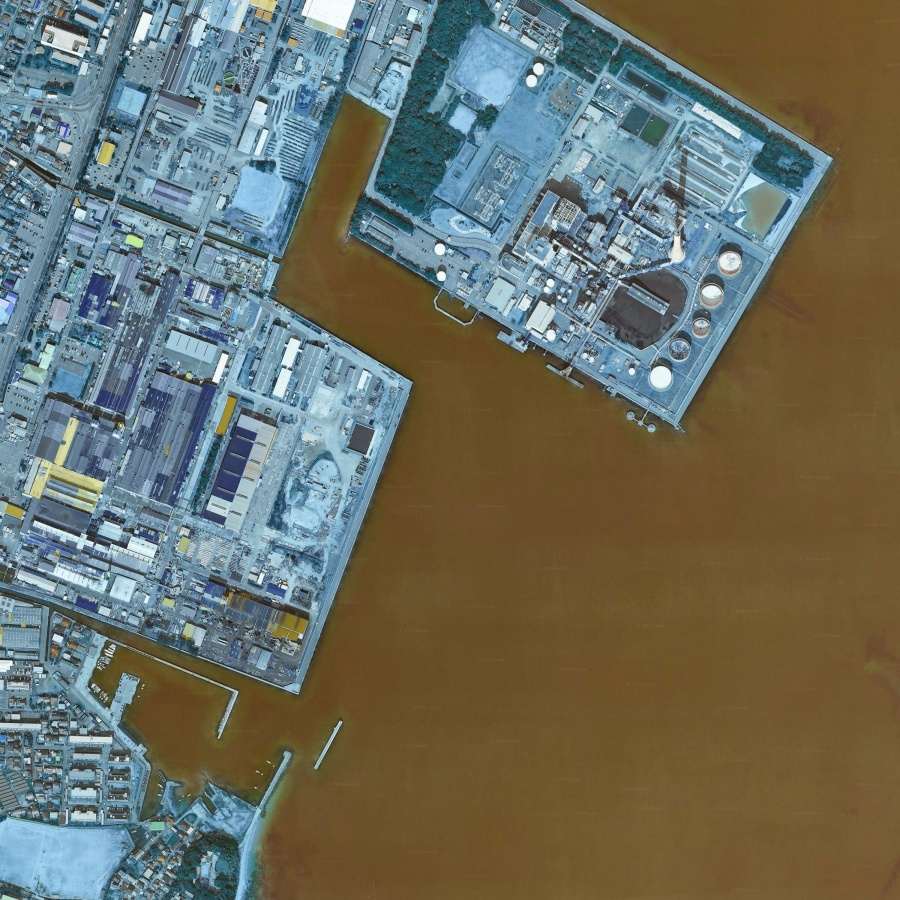PowerPlant: (428, 104, 797, 423)
